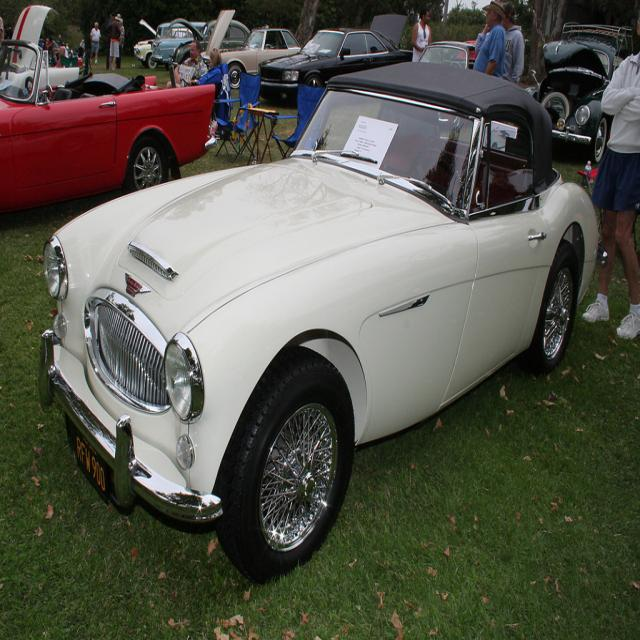car: (25, 77, 600, 553)
